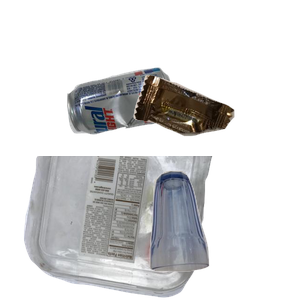glass: (147, 168, 300, 300)
metal: (65, 65, 231, 192)
plastic: (21, 156, 226, 300)
trash: (131, 73, 300, 202)
